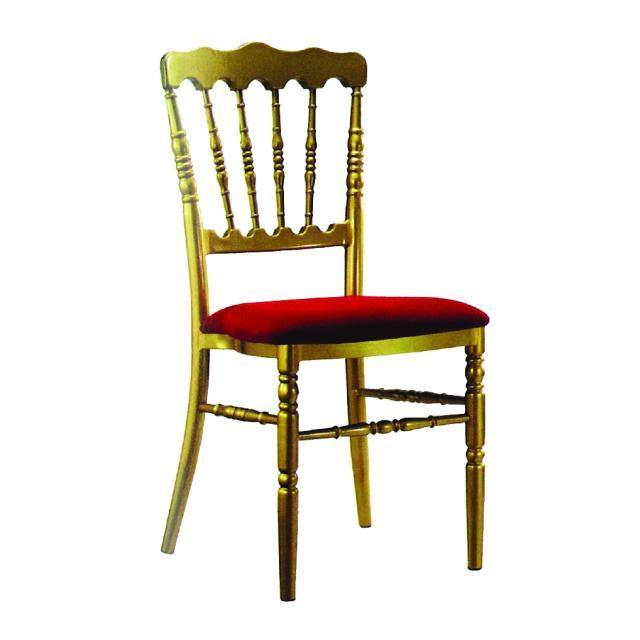chair: (158, 42, 493, 602)
